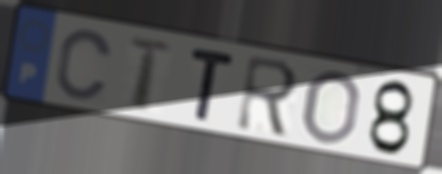8: (367, 79, 417, 157)
C: (53, 26, 115, 103)
O: (298, 67, 363, 147)
R: (233, 52, 302, 141)
T: (125, 35, 175, 115), (188, 45, 238, 125)
